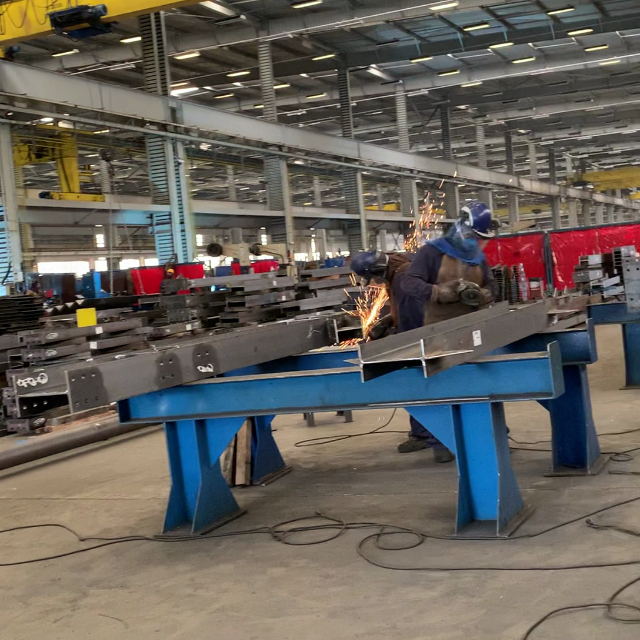face-shield: (452, 224, 497, 259)
glove: (433, 278, 465, 301)
helmet: (462, 198, 492, 228), (348, 250, 376, 276)
person: (394, 201, 493, 311)
safety-shoe: (432, 443, 458, 465), (398, 438, 428, 453)
